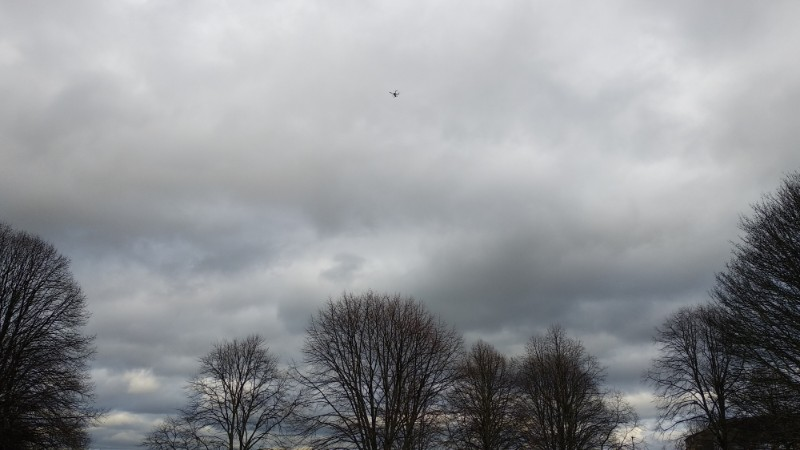drone: (389, 89, 400, 98)
